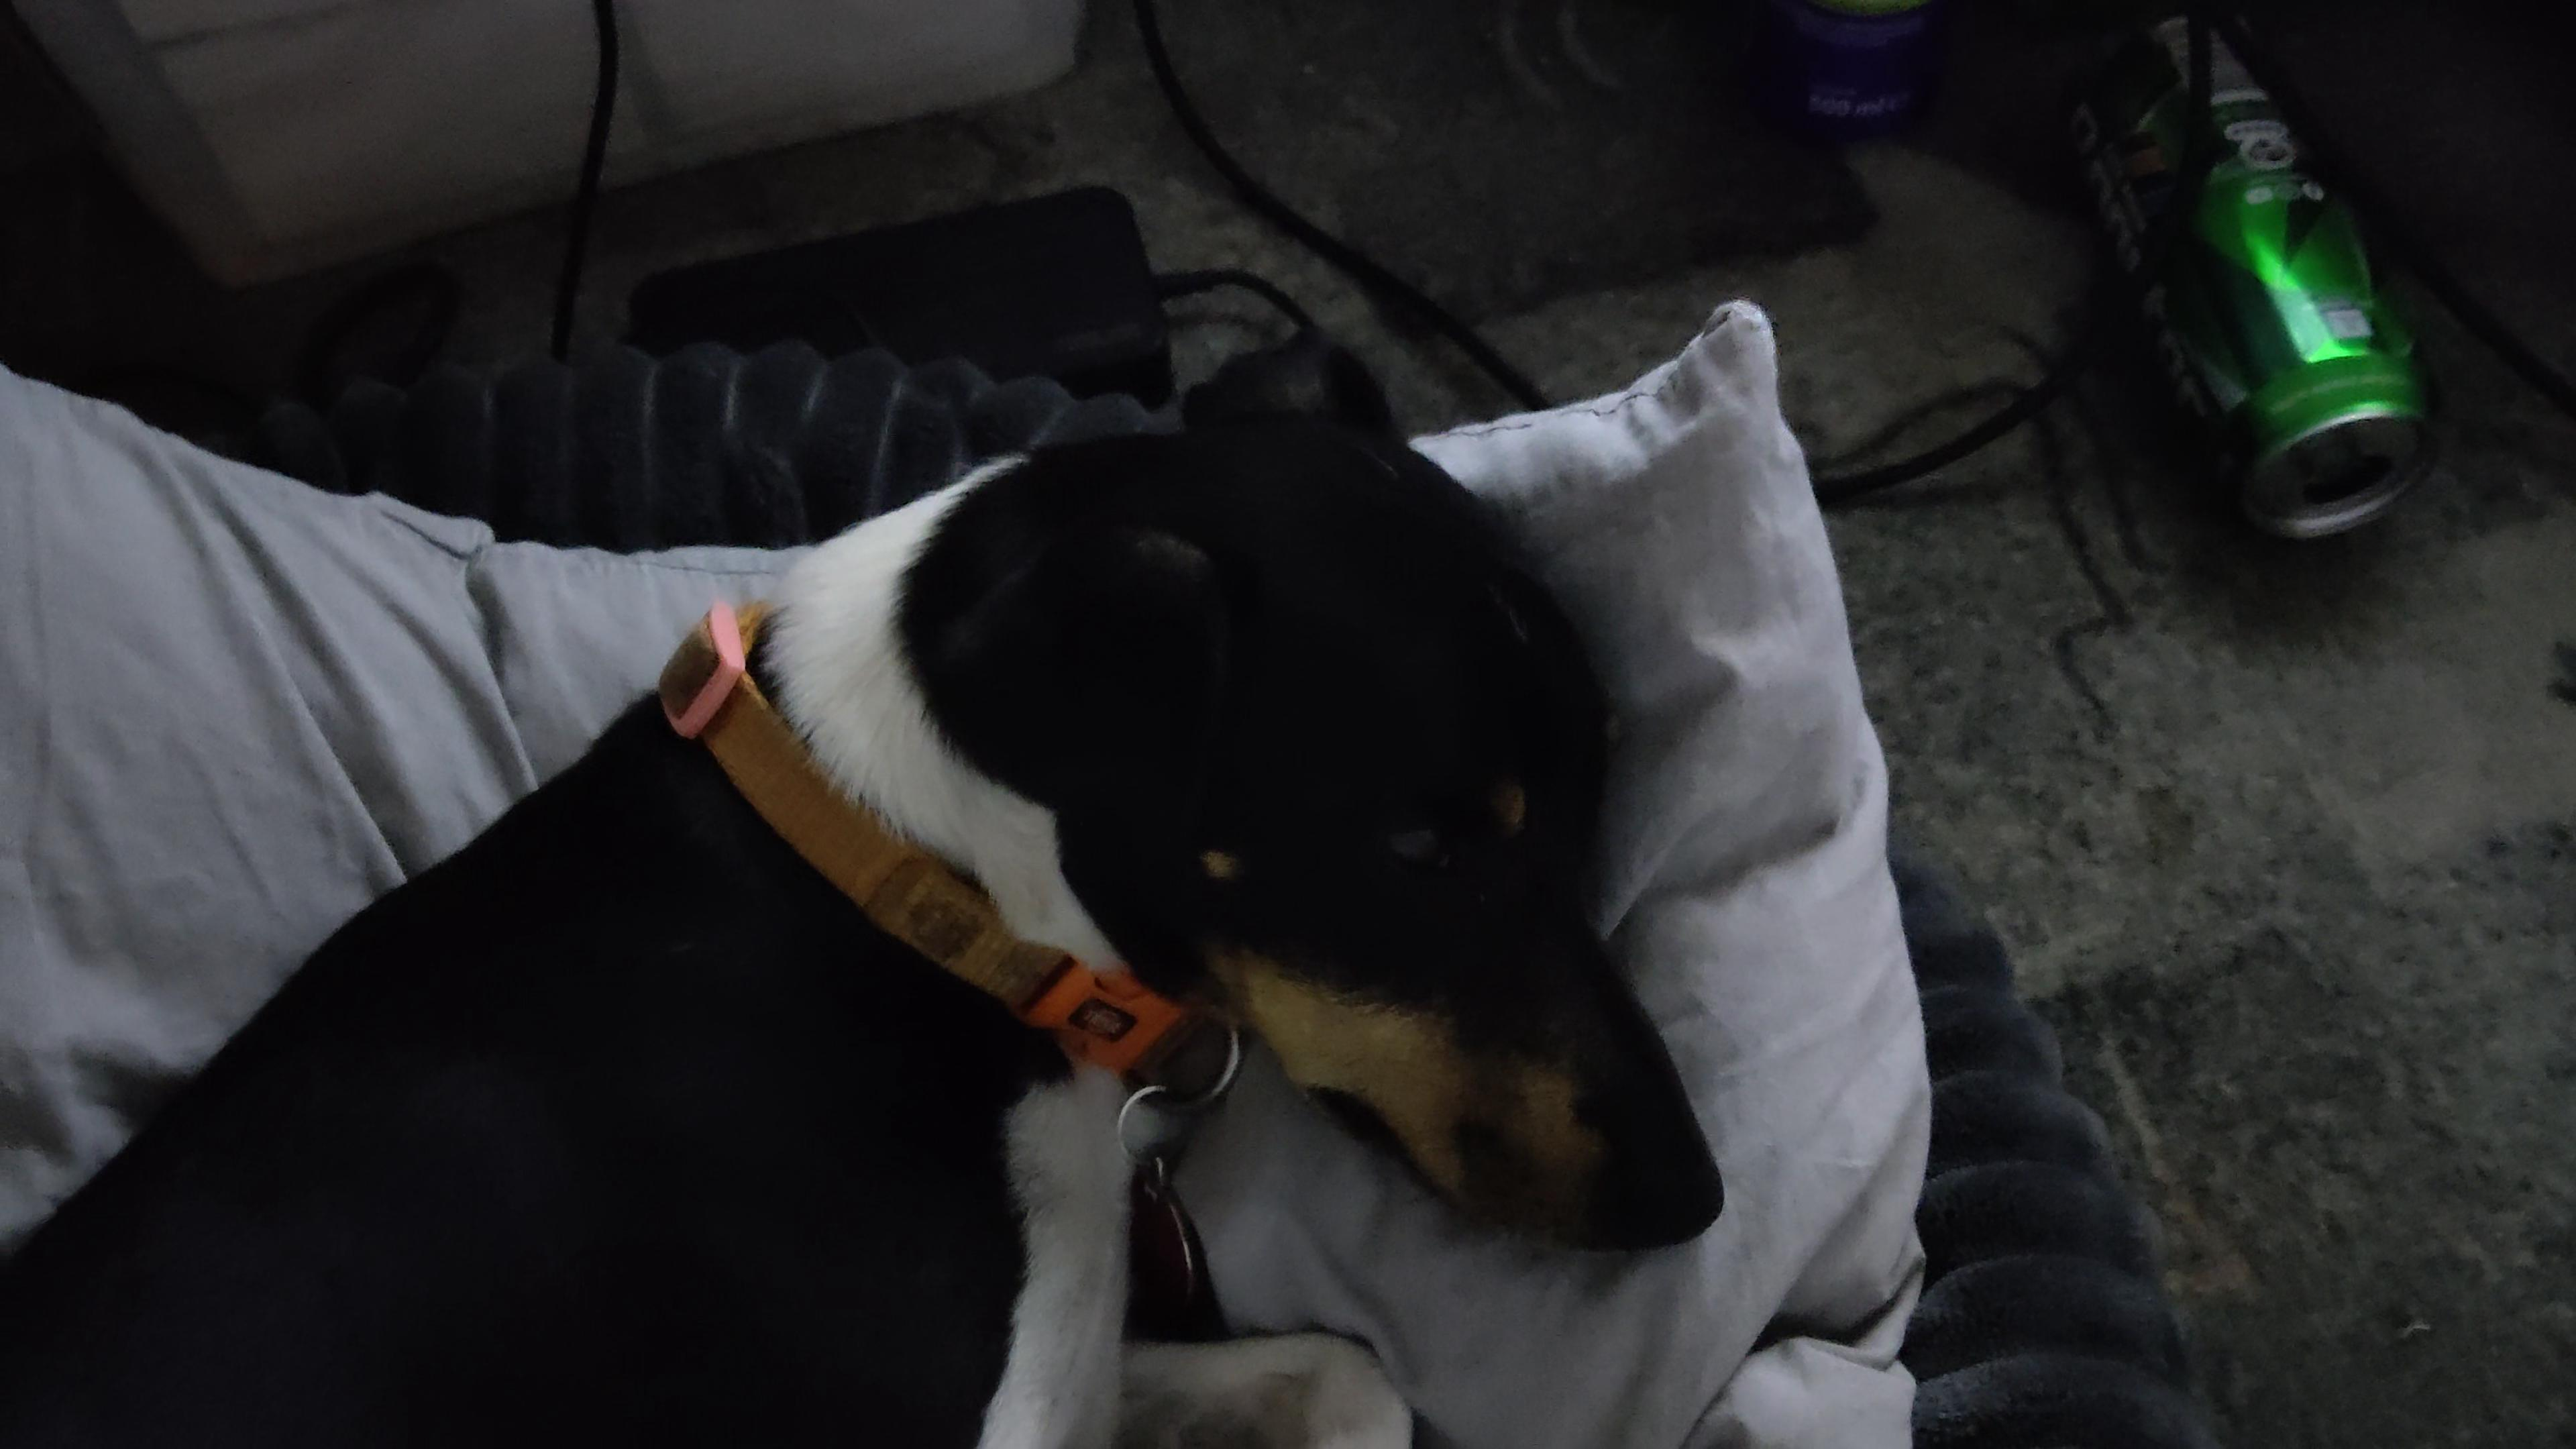Dog: (0, 318, 1759, 1449)
